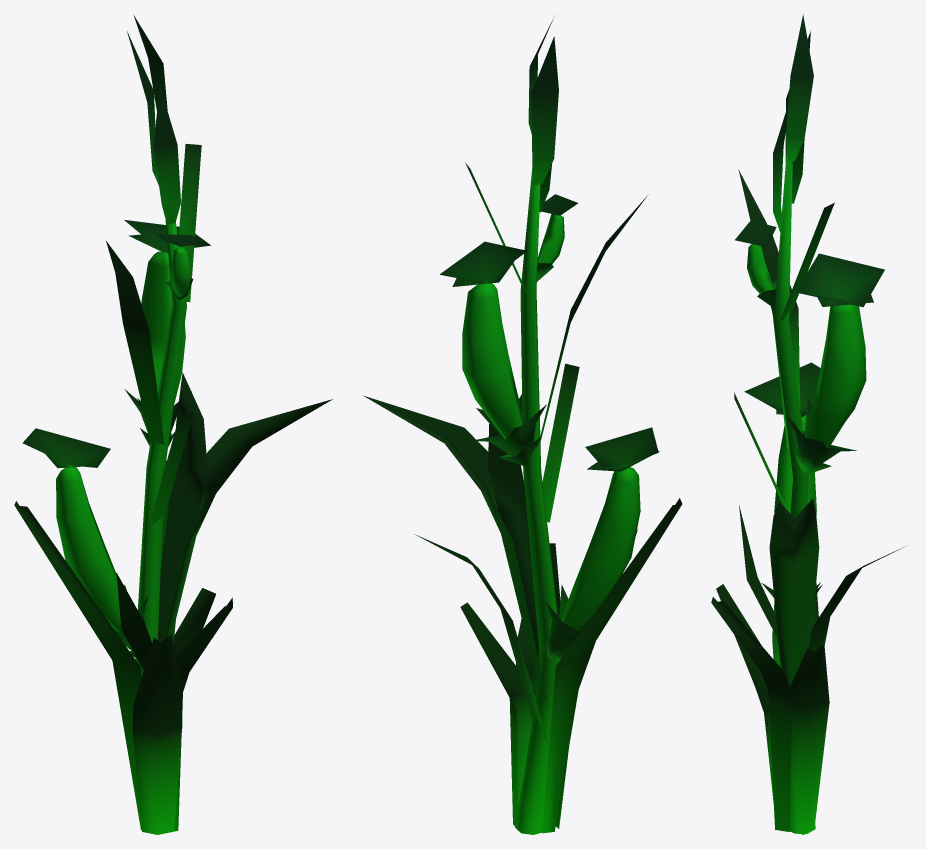
The model's file is env_foliage_cucumberplant01_lod0.fbx.
3 views of the same model, side by side, from view 1: azimuth 30°, elevation 25°; view 2: azimuth 150°, elevation 25°; view 3: azimuth 270°, elevation 25° (orthographic). The views are drawn at different scales.
Parts seen in each view (by area): view 1: env_foliage_cucumberplant01_lod0; view 2: env_foliage_cucumberplant01_lod0; view 3: env_foliage_cucumberplant01_lod0.
Part boxes in pixels (box(x1,y1,x2,y2)): env_foliage_cucumberplant01_lod0: box(14, 15, 332, 834); env_foliage_cucumberplant01_lod0: box(363, 16, 682, 834); env_foliage_cucumberplant01_lod0: box(711, 14, 903, 834).
Bounding box in the file's own units: 7.66 × 18.75 × 4.25.
